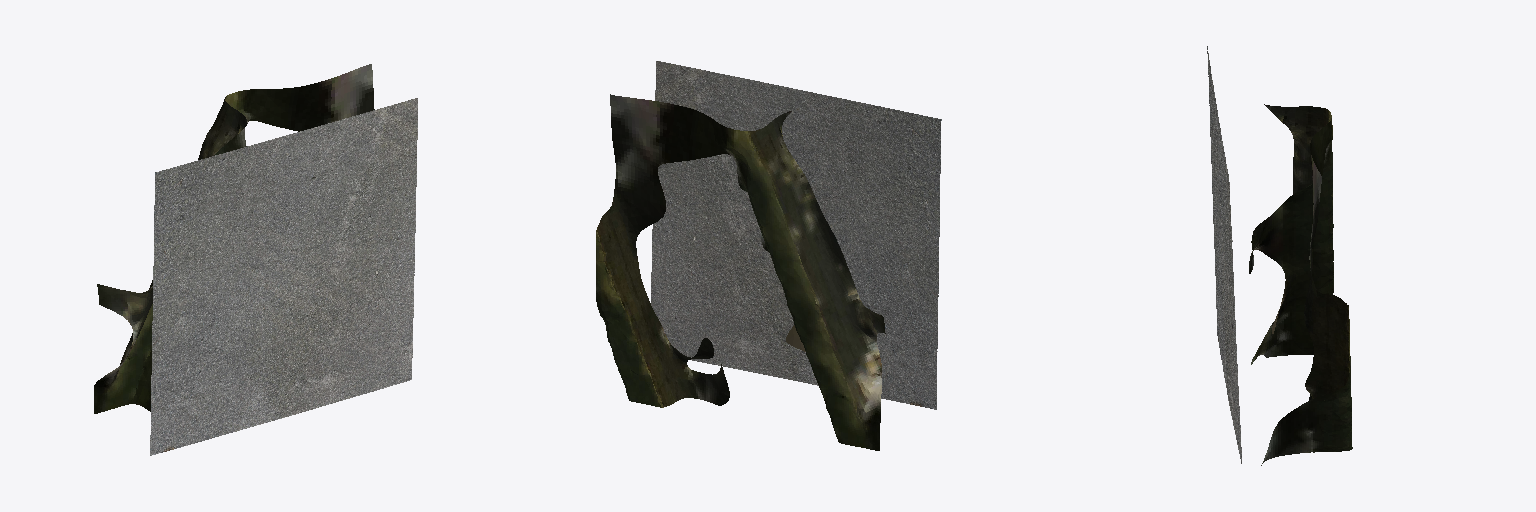
3 renders of one model, left to right at view 1: azimuth 30°, elevation 25°; view 2: azimuth 150°, elevation 25°; view 3: azimuth 270°, elevation 25°, orthographic.
Bounding box in the file's own units: 3.03 × 3.03 × 1.39.
Materials: 2 (1 with a texture image).